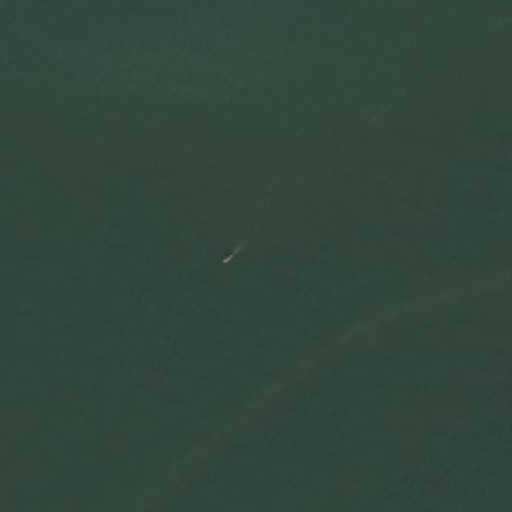ship: (220, 251, 234, 266)
